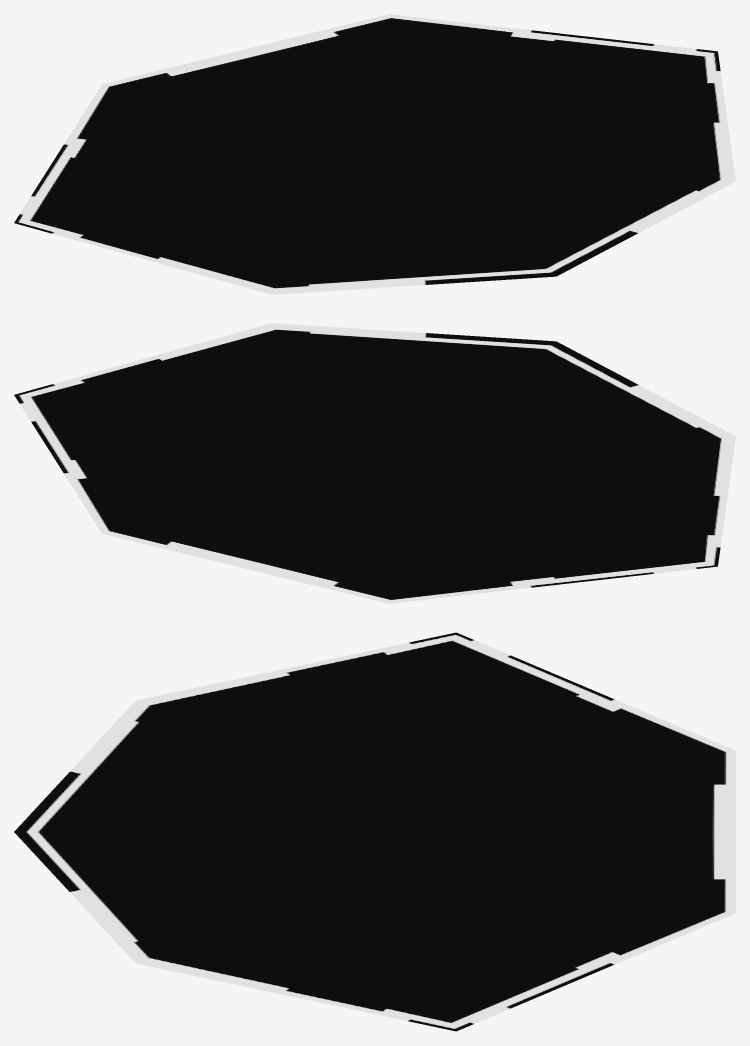
Rendered from Effect_tayujing.FBX.
3 views of the same model, one above another, from view 1: azimuth 30°, elevation 25°; view 2: azimuth 150°, elevation 25°; view 3: azimuth 270°, elevation 25° (orthographic). The views are drawn at different scales.
Parts seen in each view (by area): view 1: Effect_tayujing; view 2: Effect_tayujing; view 3: Effect_tayujing.
Boxes of the visible parts, <box> form: Effect_tayujing: <box>14,14,735,294</box>; Effect_tayujing: <box>14,323,735,603</box>; Effect_tayujing: <box>14,632,735,1031</box>.
Size of the model in its own units: 34.52 by 0.0493 by 26.39.
Materials: 1 (1 with a texture image).
